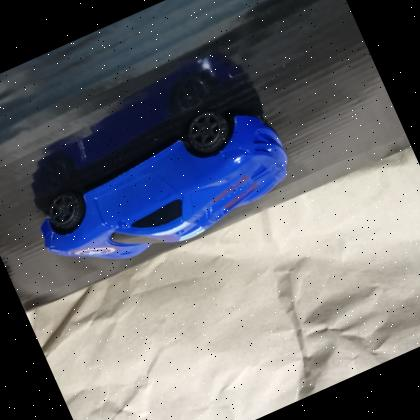Car: (39, 109, 288, 259)
